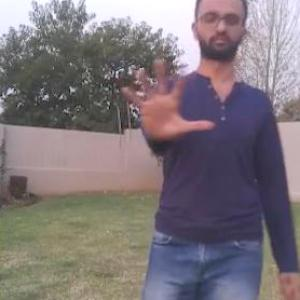follow_hand: (112, 46, 216, 147)
